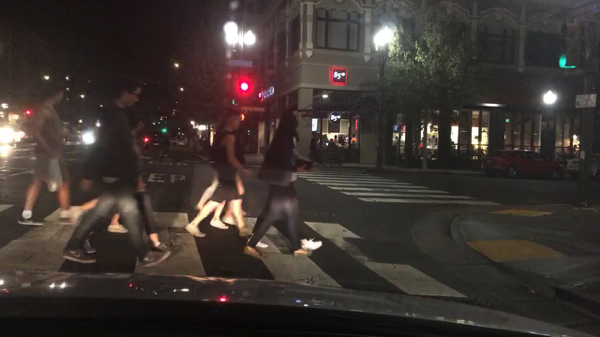car: (480, 149, 563, 179), (566, 156, 599, 179), (142, 131, 169, 147), (80, 128, 99, 145), (177, 137, 188, 146), (172, 138, 177, 144)
person: (61, 77, 172, 267), (81, 114, 168, 253), (243, 111, 313, 260), (245, 131, 323, 249), (184, 110, 253, 241), (17, 80, 78, 226), (74, 155, 128, 233), (195, 159, 235, 229), (328, 139, 337, 168), (308, 138, 317, 161)
traffic light: (557, 22, 582, 69), (230, 78, 240, 104), (240, 79, 251, 93), (25, 110, 33, 116), (240, 113, 246, 121), (162, 128, 167, 132)
traffic sign: (576, 94, 595, 110), (228, 59, 253, 66)
